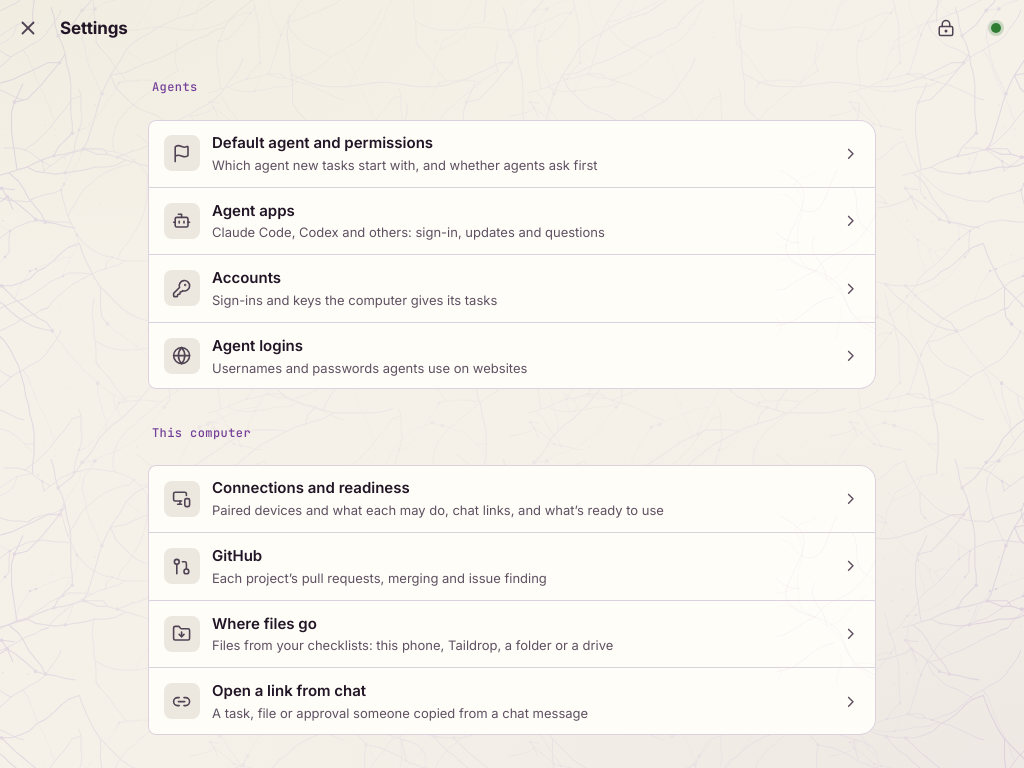
Test: with nothing running, a locked or unconfirmed display stays one tap from its controls
This screenshot has width=1024, height=768.
Click the button named "Safety · Screen 1 (DP-1) · Computer locked · 3 displays. Sho" at (946, 28), box [922, 4, 970, 52]
Wait 50 ms
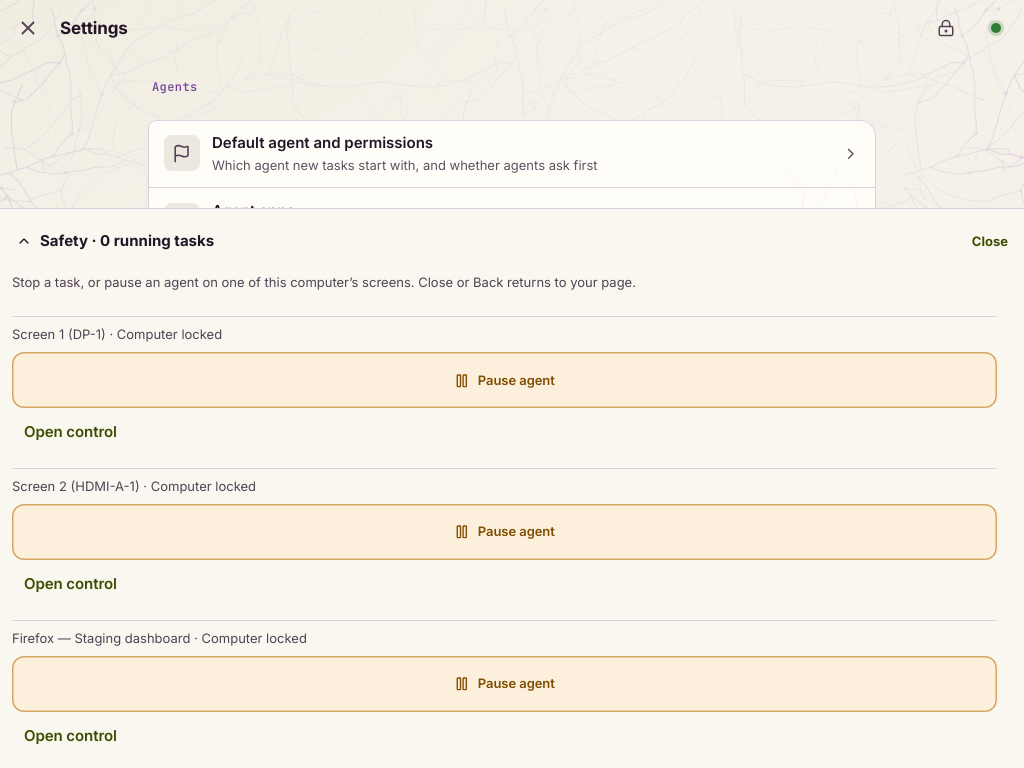
Check: the button "Pause agent" below "Screen 1 (DP-1)" is shown, box [12, 352, 997, 408]
